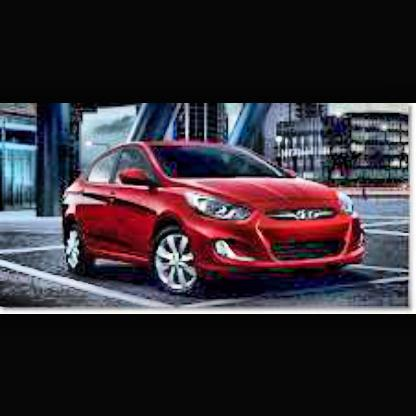Hyundai Accent Sedan 2012: (62, 139, 371, 297)
